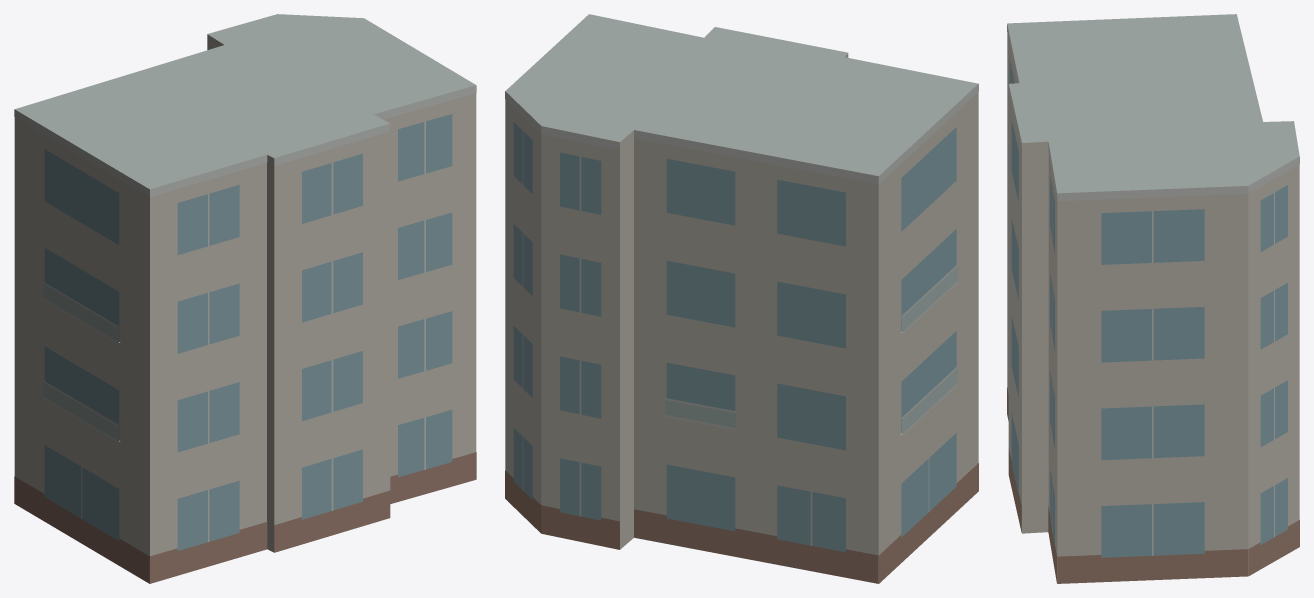
File: survey-upis-32989960.glb
3 views of the same model, side by side, from view 1: azimuth 30°, elevation 25°; view 2: azimuth 150°, elevation 25°; view 3: azimuth 270°, elevation 25° (orthographic). The views are drawn at different scales.
Parts seen in each view (by area): view 1: survey-upis-32989960.tmp; view 2: survey-upis-32989960.tmp; view 3: survey-upis-32989960.tmp.
Part boxes in pixels (x1,y1,x2,y2): survey-upis-32989960.tmp: (14, 14, 476, 583); survey-upis-32989960.tmp: (505, 14, 978, 583); survey-upis-32989960.tmp: (1007, 14, 1299, 583).
Bounding box in the file's own units: 12.02 × 12.2 × 8.29.
